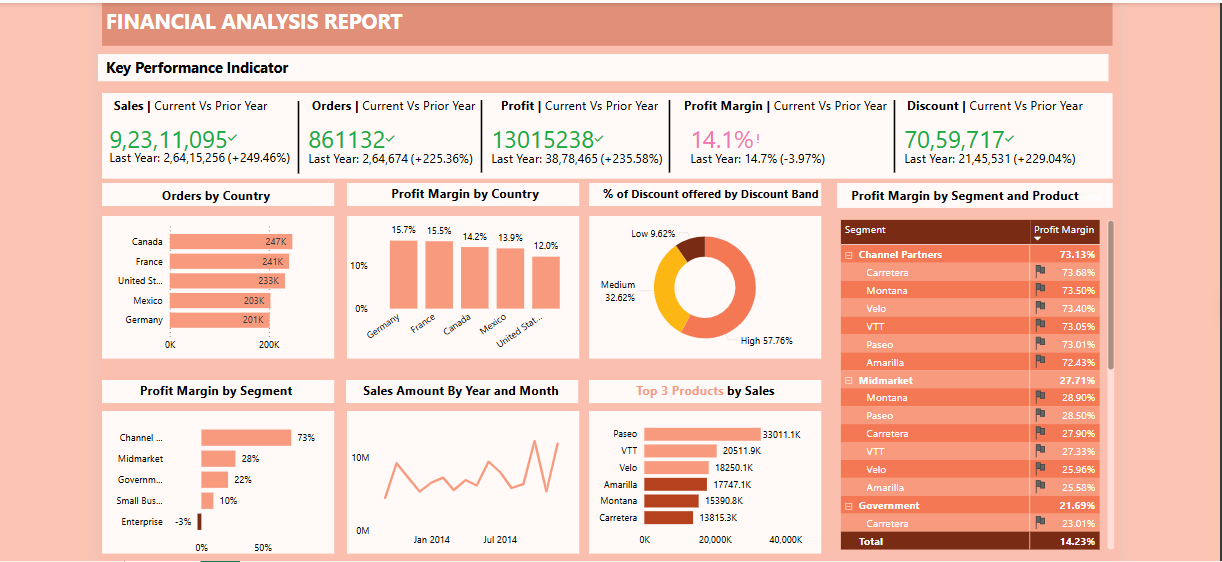

Layout of this report page (visuals, bound fields, positions):
{"tool":"powerbi","page":{"name":"Page 1","canvas":[1309,716],"ordinal":0},"visuals":[{"type":"shape","box":[0,64.8,1296.7,35.2],"z":0},{"type":"shape","box":[5.6,0,1296.7,55],"z":1000},{"type":"shape","box":[5.6,115.6,1296.7,109.9],"z":2000},{"type":"shape","box":[5.6,522.9,298,183.2],"z":3000},{"type":"shape","box":[5.6,273.4,298,183.2],"z":4000},{"type":"shape","box":[319.9,273.4,298,183],"z":5000},{"type":"shape","box":[319.9,522.9,298,183.2],"z":6000},{"type":"shape","box":[630,273.4,298,183.2],"z":7000},{"type":"shape","box":[630,522.9,298,183.2],"z":8000},{"type":"shape","box":[5.6,231.1,298,29.6],"z":9000},{"type":"shape","box":[319.9,231.1,298,29.6],"z":10000},{"type":"shape","box":[5.6,483.4,298,29.6],"z":11000},{"type":"shape","box":[318.5,483.4,298,29.6],"z":12000},{"type":"shape","box":[630,483.4,298,29.6],"z":13000},{"type":"shape","box":[630,231.1,298,29.6],"z":14000},{"type":"shape","box":[948.6,231.1,353.8,32.4],"z":15000},{"type":"textbox","box":[5.6,0,420,55],"z":16000},{"type":"textbox","box":[5.6,64.8,365,35.2],"z":17000},{"type":"kpi","fields":{"TrendLine":["Date.Year"],"Goal":["Analysis.Sales LY"],"Indicator":["Analysis.Sales"]},"box":[1.4,115.6,267.8,102.9],"z":18000},{"type":"textbox","box":[15.5,115.6,365,35.2],"z":19000},{"type":"kpi","fields":{"TrendLine":["Date.Year"],"Indicator":["Analysis.Orders"],"Goal":["Analysis.Orders LY"]},"box":[256.2,64.8,287.5,153.6],"z":20000},{"type":"kpi","fields":{"TrendLine":["Date.Year"]},"box":[988.5,65,286.7,153.9],"z":21000},{"type":"kpi","fields":{"TrendLine":["Date.Year"],"Indicator":["Analysis.Profit"],"Goal":["Analysis.Profit LY"]},"box":[491.9,64.8,286.1,153.6],"z":22000},{"type":"kpi","fields":{"TrendLine":["Date.Year"],"Indicator":["Analysis.Profit Margin"],"Goal":["Analysis.Profit Margin LY"]},"box":[747,64.8,286.1,153.6],"z":23000},{"type":"kpi","fields":{"TrendLine":["Date.Year"],"Indicator":["Analysis.Discount"],"Goal":["Analysis.Discount LY"]},"box":[1021.5,64.8,287.5,153.6],"z":24000},{"type":"textbox","box":[269.6,115.6,366.5,35.2],"z":25000},{"type":"textbox","box":[511.6,115.6,365,35.2],"z":26000},{"type":"textbox","box":[747,115.6,365,35.2],"z":27000},{"type":"textbox","box":[1032.7,115.6,276.3,35.2],"z":28000},{"type":"shape","box":[349.5,124,286.1,93],"z":29000},{"type":"shape","box":[114.2,125.4,286.1,93],"z":30000},{"type":"shape","box":[590.6,124,286.1,93],"z":31000},{"type":"shape","box":[879.5,124,286.1,93],"z":32000},{"type":"clusteredBarChart","fields":{"Y":["Analysis.Orders"],"Category":["Financial data.Country"]},"box":[5.6,273.4,297.4,183.2],"z":33000},{"type":"clusteredColumnChart","fields":{"Y":["Analysis.Profit Margin"],"Category":["Financial data.Country"]},"box":[318.5,266.4,298.8,190.3],"z":34000},{"type":"donutChart","fields":{"Category":["Financial data. Discount Band "],"Y":["Analysis.Discount"]},"box":[630,273.4,297.4,183.2],"z":35000},{"type":"clusteredBarChart","fields":{"Y":["Analysis.Profit Margin"],"Category":["Financial data.Segment"]},"box":[5.6,522.9,297.4,193.1],"z":36000},{"type":"clusteredBarChart","fields":{"Y":["Analysis.Sales"],"Category":["Financial data. Product "]},"box":[630,522.9,297.4,183.2],"z":37000},{"type":"lineChart","fields":{"Y":["Analysis.Sales"],"Category":["Date.Date.Variation.Date Hierarchy.Year","Date.Date.Variation.Date Hierarchy.Month"]},"box":[319.9,522.9,297.4,183.2],"z":38000},{"type":"textbox","box":[0,231.1,303,35.2],"z":39000},{"type":"textbox","box":[319.9,228.3,303,35.2],"z":40000},{"type":"textbox","box":[623,228.3,325.6,32.4],"z":41000},{"type":"textbox","box":[0,480.6,303,35.2],"z":42000},{"type":"textbox","box":[314.3,480.6,303,35.2],"z":43000},{"type":"textbox","box":[630,480.6,303,35.2],"z":44000},{"type":"pivotTable","fields":{"Rows":["Financial data.Segment","Financial data. Product "],"Values":["Analysis.Profit Margin"]},"box":[948.6,273.4,360.8,432.7],"z":45000},{"type":"textbox","box":[945.7,231.1,363.6,38.1],"z":46000}]}

Visuals, with their boxes on the page's 1309x716 design canvas (x1, y1, x2, y2). These are canvas units, not pixel positions in the 1222x562 screenshot, which may show the page scaled, cropped or inside an application window:
shape: locate(0, 65, 1297, 100)
shape: locate(6, 0, 1302, 55)
shape: locate(6, 116, 1302, 226)
shape: locate(6, 523, 304, 706)
shape: locate(6, 273, 304, 457)
shape: locate(320, 273, 618, 456)
shape: locate(320, 523, 618, 706)
shape: locate(630, 273, 928, 457)
shape: locate(630, 523, 928, 706)
shape: locate(6, 231, 304, 261)
shape: locate(320, 231, 618, 261)
shape: locate(6, 483, 304, 513)
shape: locate(318, 483, 616, 513)
shape: locate(630, 483, 928, 513)
shape: locate(630, 231, 928, 261)
shape: locate(949, 231, 1302, 264)
textbox: locate(6, 0, 426, 55)
textbox: locate(6, 65, 371, 100)
kpi - Date.Year x Analysis.Sales LY: locate(1, 116, 269, 218)
textbox: locate(16, 116, 380, 151)
kpi - Date.Year x Analysis.Orders: locate(256, 65, 544, 218)
kpi - Date.Year: locate(988, 65, 1275, 219)
kpi - Date.Year x Analysis.Profit: locate(492, 65, 778, 218)
kpi - Date.Year x Analysis.Profit Margin: locate(747, 65, 1033, 218)
kpi - Date.Year x Analysis.Discount: locate(1022, 65, 1309, 218)
textbox: locate(270, 116, 636, 151)
textbox: locate(512, 116, 877, 151)
textbox: locate(747, 116, 1112, 151)
textbox: locate(1033, 116, 1309, 151)
shape: locate(350, 124, 636, 217)
shape: locate(114, 125, 400, 218)
shape: locate(591, 124, 877, 217)
shape: locate(880, 124, 1166, 217)
clusteredBarChart - Analysis.Orders x Financial data.Country: locate(6, 273, 303, 457)
clusteredColumnChart - Analysis.Profit Margin x Financial data.Country: locate(318, 266, 617, 457)
donutChart - Financial data. Discount Band  x Analysis.Discount: locate(630, 273, 927, 457)
clusteredBarChart - Analysis.Profit Margin x Financial data.Segment: locate(6, 523, 303, 716)
clusteredBarChart - Analysis.Sales x Financial data. Product : locate(630, 523, 927, 706)
lineChart - Analysis.Sales x Date.Date.Variation.Date Hierarchy.Year: locate(320, 523, 617, 706)
textbox: locate(0, 231, 303, 266)
textbox: locate(320, 228, 623, 264)
textbox: locate(623, 228, 949, 261)
textbox: locate(0, 481, 303, 516)
textbox: locate(314, 481, 617, 516)
textbox: locate(630, 481, 933, 516)
pivotTable - Financial data.Segment x Financial data. Product : locate(949, 273, 1309, 706)
textbox: locate(946, 231, 1309, 269)
